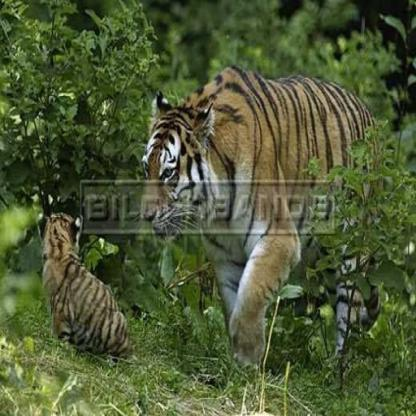Tiger: (134, 44, 374, 384), (31, 202, 137, 366)
